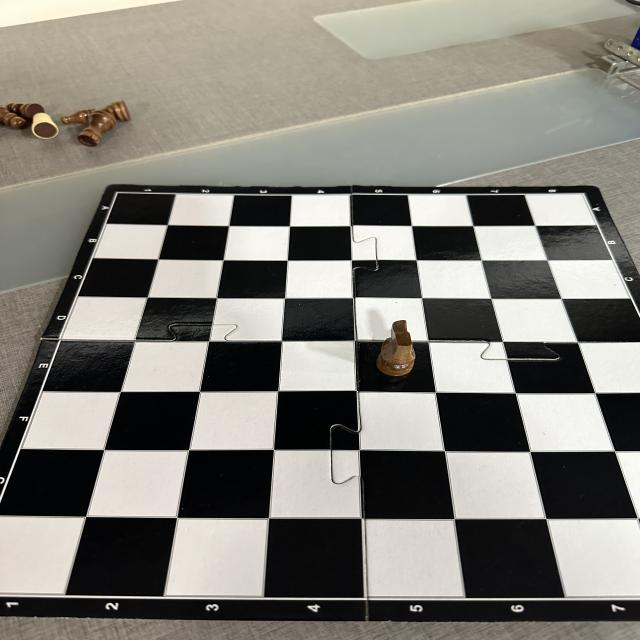Black-Bishop: (61, 100, 129, 125)
Black-Knight: (376, 319, 416, 376)
Black-Pawn: (0, 107, 28, 130), (8, 100, 43, 116)
Black-Rook: (78, 111, 117, 147)
White-Pawn: (31, 113, 59, 139)
